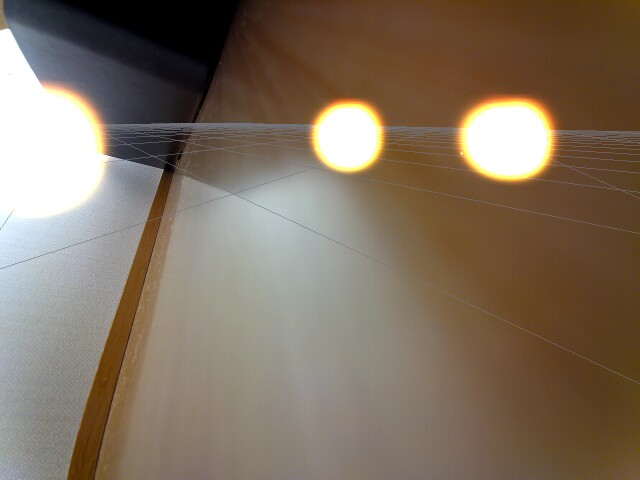firebig: (0, 51, 117, 238)
